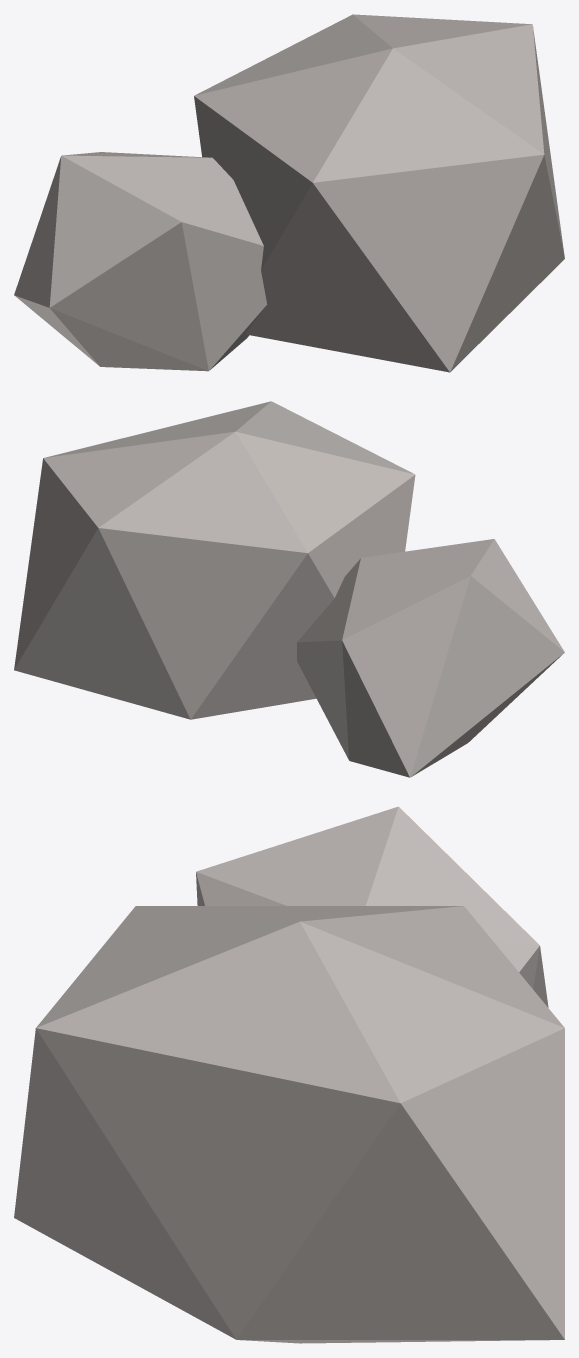
3 renders of one model, top to bottom at view 1: azimuth 30°, elevation 25°; view 2: azimuth 150°, elevation 25°; view 3: azimuth 270°, elevation 25°, orthographic. The views are drawn at different scales.
Parts seen in each view (by area): view 1: toDelete.002; view 2: toDelete.002; view 3: toDelete.002.
Boxes of the visible parts, x1=… form: toDelete.002: x1=14, y1=14, x2=564, y2=372; toDelete.002: x1=14, y1=401, x2=564, y2=777; toDelete.002: x1=14, y1=806, x2=564, y2=1343.
Size of the model in its own units: 1.28 by 0.6957 by 0.8366.
Materials: 1 (1 with a texture image).
